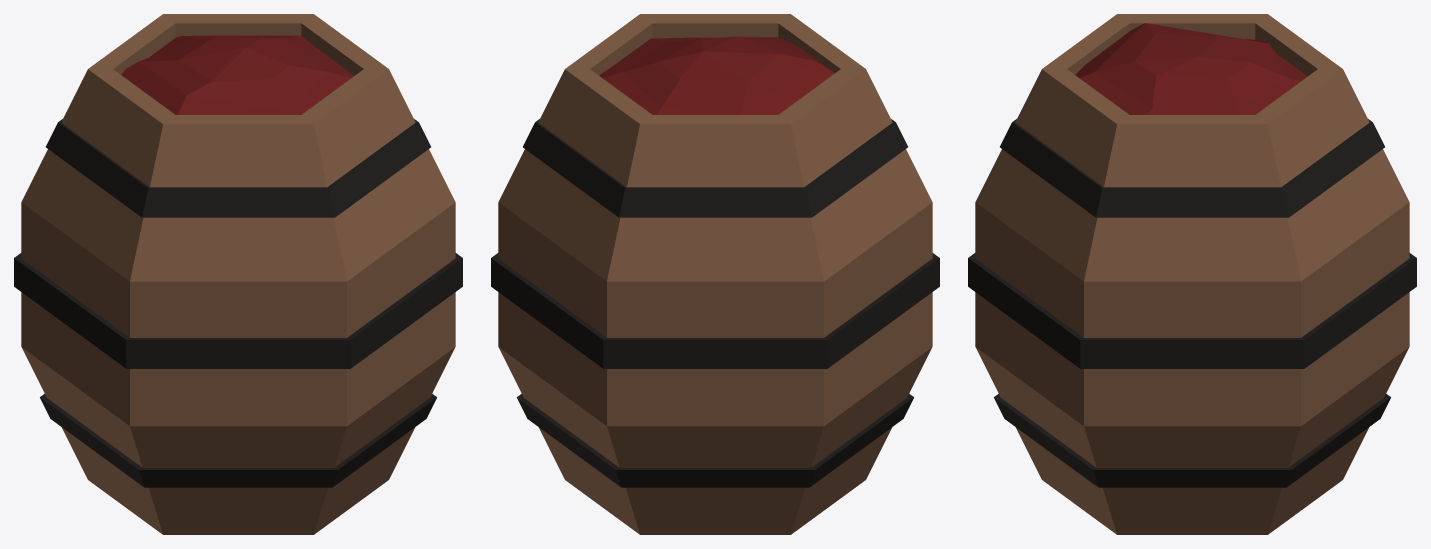
Rendered from Barrel_2.fbx.
3 renders of one model, left to right at view 1: azimuth 30°, elevation 25°; view 2: azimuth 150°, elevation 25°; view 3: azimuth 270°, elevation 25°, orthographic.
Visible parts, largest first — view 1: Barrel_2; view 2: Barrel_2; view 3: Barrel_2.
Part boxes in pixels (x1,y1,x2,y2): Barrel_2: (14, 14, 462, 534); Barrel_2: (491, 14, 939, 534); Barrel_2: (968, 14, 1416, 534).
Size of the model in its own units: 36.11 by 31.27 by 37.97.
